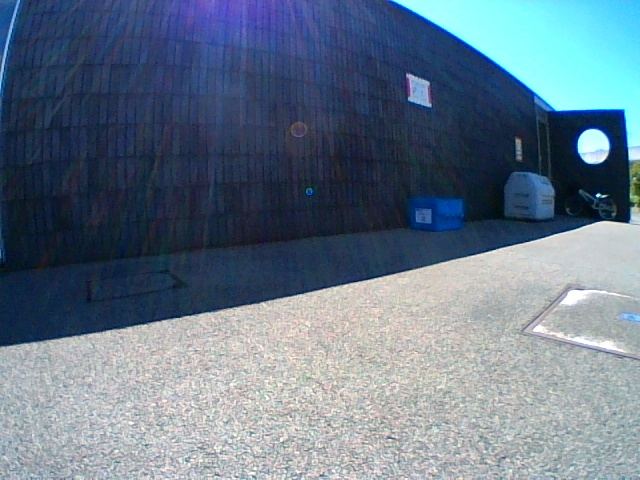blue_box: (411, 198, 462, 231)
tag: (417, 209, 430, 222)
